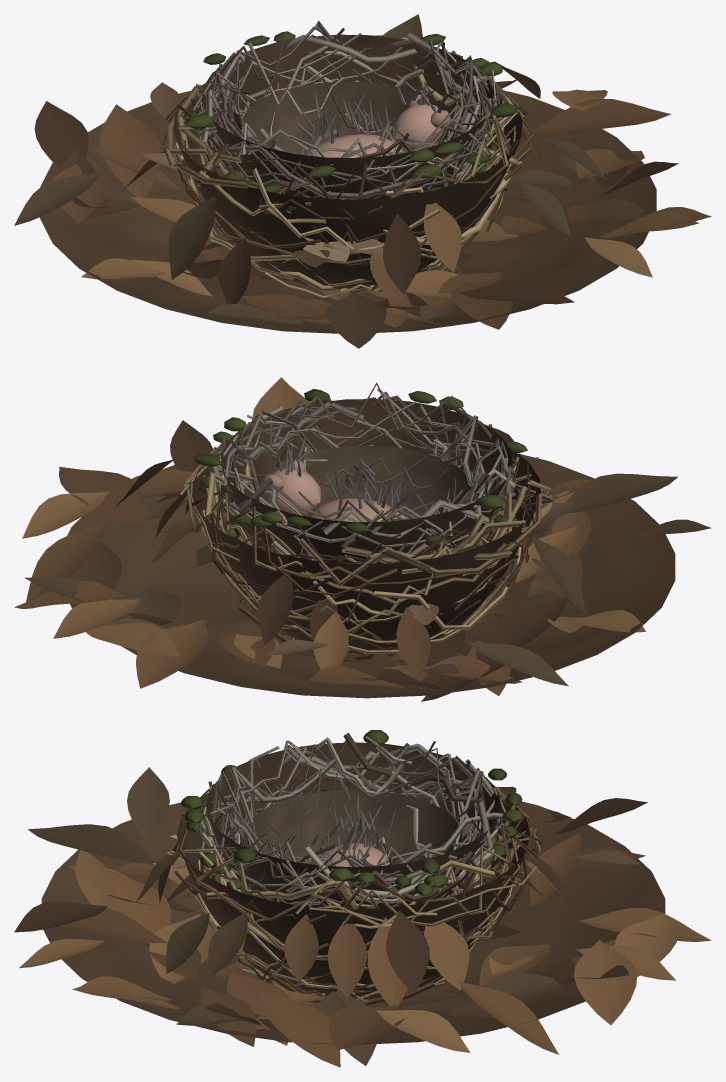
Rendered from nests.glb.
3 views of the same model, one above another, from view 1: azimuth 30°, elevation 25°; view 2: azimuth 150°, elevation 25°; view 3: azimuth 270°, elevation 25° (orthographic).
Parts seen in each view (by area): view 1: nest_scrape, nest_shrub, nest_cup, nestling; view 2: nest_scrape, nest_cup, nest_shrub, nestling; view 3: nest_scrape, nest_shrub, nest_cup, nestling.
Part boxes in pixels (x1,y1,x2,y2): nest_scrape: [14, 14, 711, 348]; nest_shrub: [183, 20, 517, 199]; nest_cup: [125, 34, 607, 304]; nestling: [296, 80, 455, 157]; nest_scrape: [14, 377, 711, 701]; nest_cup: [115, 400, 585, 678]; nest_shrub: [192, 382, 527, 563]; nestling: [264, 437, 413, 521]; nest_scrape: [14, 767, 711, 1067]; nest_shrub: [181, 730, 523, 909]; nest_cup: [136, 760, 573, 1006]; nestling: [311, 796, 396, 867].
Bounding box in the file's own units: 0.2082 × 0.066 × 0.2114.
